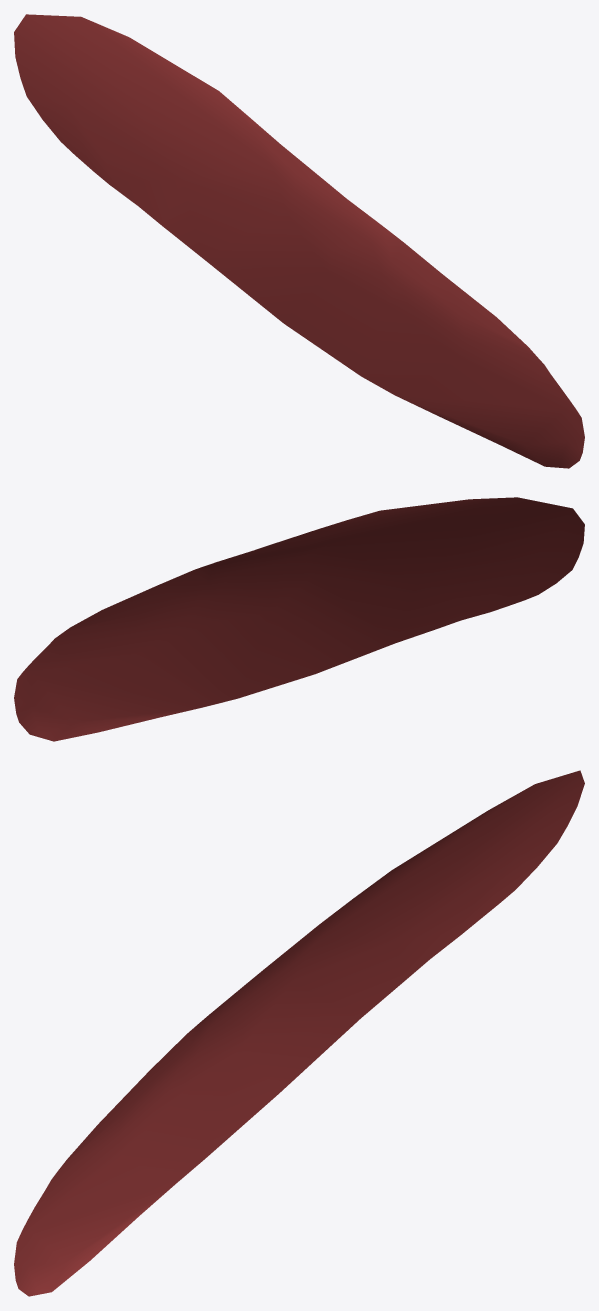
Rendered from pectoralis-minor-muscle-er.glb.
3 renders of one model, top to bottom at view 1: azimuth 30°, elevation 25°; view 2: azimuth 210°, elevation 25°; view 3: azimuth 270°, elevation 25°, orthographic. The views are drawn at different scales.
Parts seen in each view (by area): view 1: Pectoralis minor muscle.er; view 2: Pectoralis minor muscle.er; view 3: Pectoralis minor muscle.er.
Part boxes in pixels (bbox=[...]): Pectoralis minor muscle.er: bbox=[14, 14, 584, 468]; Pectoralis minor muscle.er: bbox=[14, 497, 584, 741]; Pectoralis minor muscle.er: bbox=[14, 770, 584, 1296].
Size of the model in its own units: 0.0278 by 0.0295 by 0.0403.
